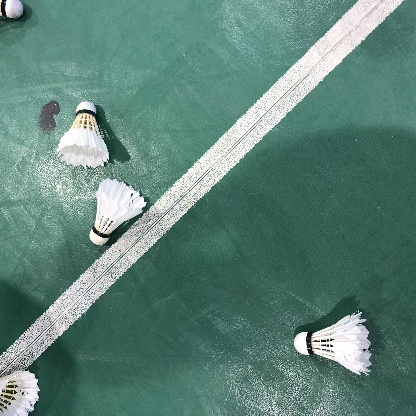ball_single: (294, 312, 372, 375), (89, 178, 147, 245), (56, 102, 109, 169), (0, 370, 40, 416), (0, 0, 24, 18)
